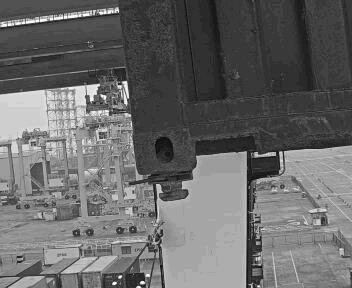twist_lock_1: (141, 164, 202, 206)
